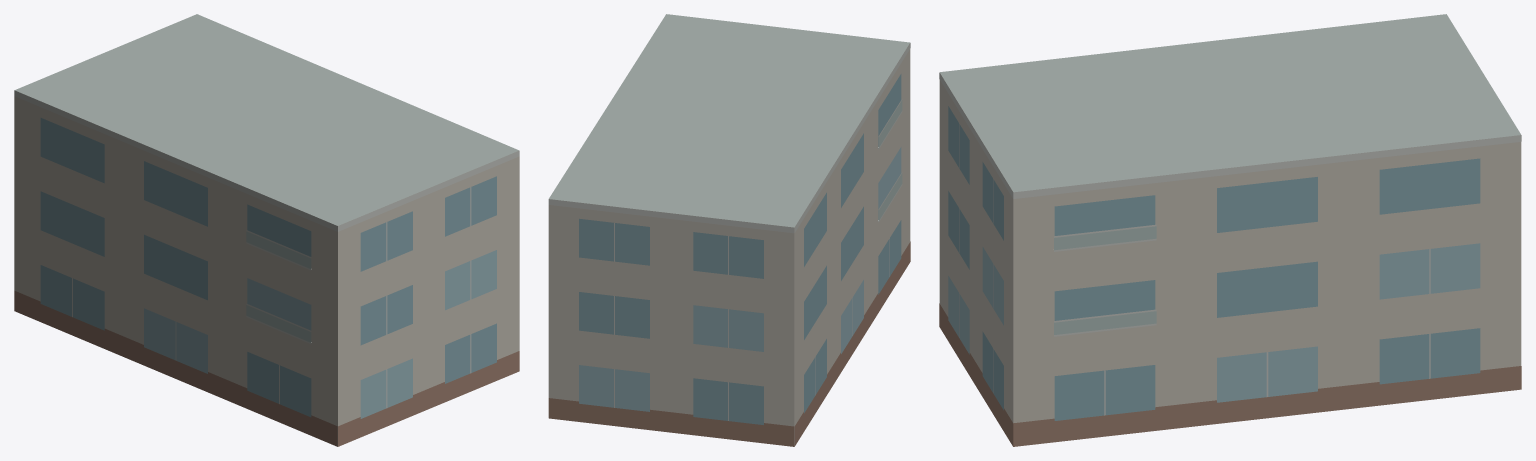
File: survey-upis-32712853.glb
The picture shows the model from 3 angles, left to right: view 1: azimuth 30°, elevation 25°; view 2: azimuth 150°, elevation 25°; view 3: azimuth 270°, elevation 25°; orthographic projection. The views are drawn at different scales.
Visible parts, largest first — view 1: survey-upis-32712853.tmp; view 2: survey-upis-32712853.tmp; view 3: survey-upis-32712853.tmp.
Boxes of the visible parts, x1,y1,x2,y2 form: survey-upis-32712853.tmp: [14, 14, 519, 446]; survey-upis-32712853.tmp: [548, 14, 910, 446]; survey-upis-32712853.tmp: [939, 14, 1521, 446].
Bounding box in the file's own units: 13.76 × 9.15 × 18.97.
